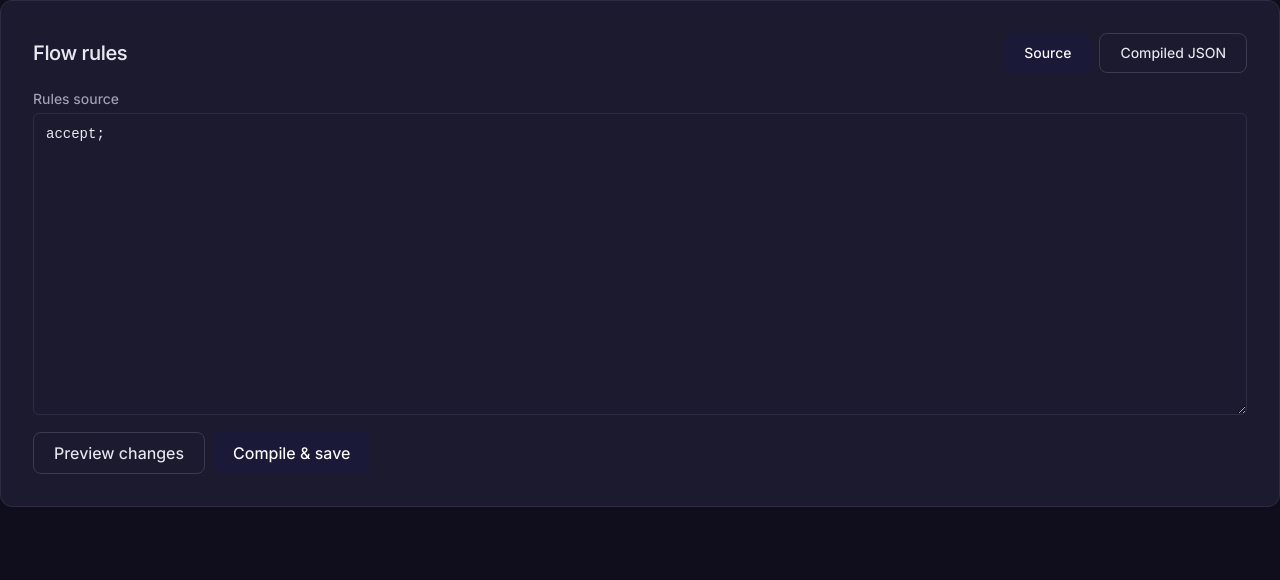
Scenario: RulesEditor › shows "No changes" when the edited source compiles to the same rules
Expected: the text box labelled "Rules source" is shown, [33,113,1247,415]
Click the button "Preview changes". click: (119, 453)
box: [33,432,205,474]
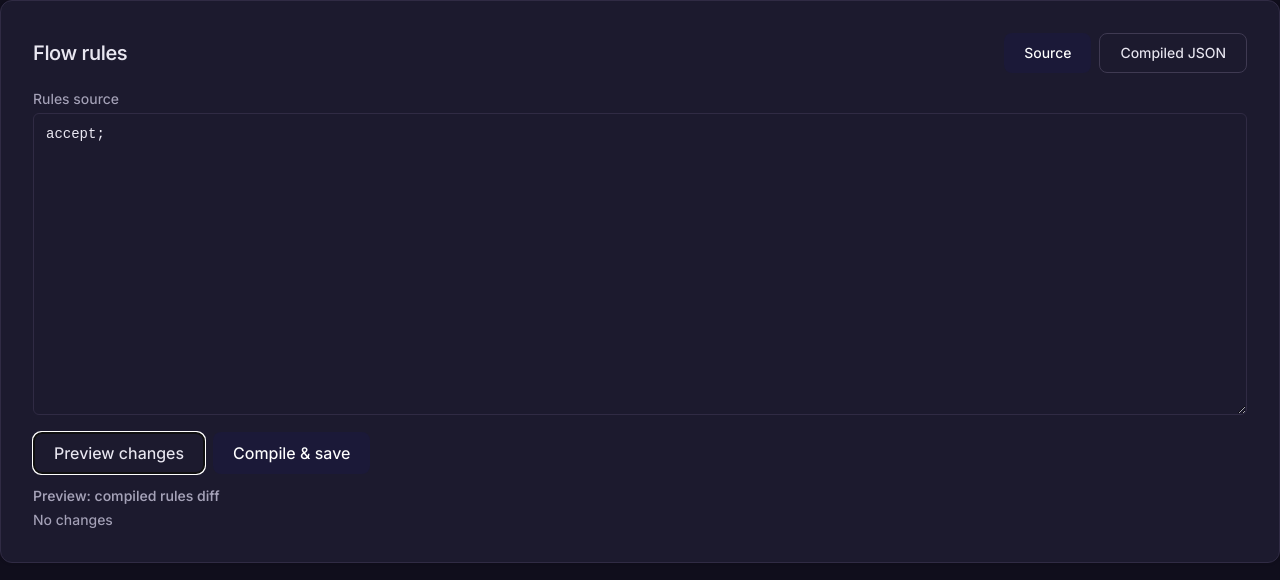
Expected: the text "No changes" is shown, [33,511,113,528]
